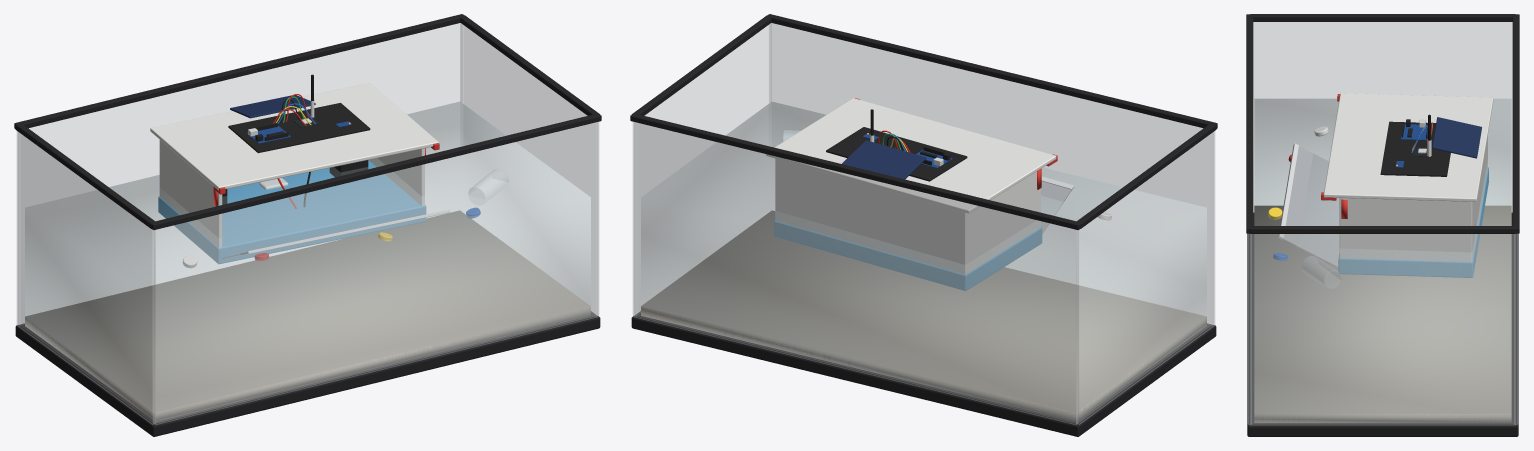
3 views of the same model, side by side, from view 1: azimuth 30°, elevation 25°; view 2: azimuth 150°, elevation 25°; view 3: azimuth 270°, elevation 25° (orthographic). The views are drawn at different scales.
Parts seen in each view (by area): view 1: wb_tank_glass, wb_gravel, wb_water, wb_tank_glass.001, wb_tank_glass.002, wb_lid_board, wb_tank_glass.003, wb_hull_blue, wb_tank_base, wb_tank_rim, wb_tank_rim.001, wb_side (+7 smaller); view 2: wb_tank_glass.001, wb_gravel, wb_tank_glass, wb_water, wb_tank_glass.002, wb_tank_glass.003, wb_back, wb_lid_board, wb_tank_base, wb_hull_blue, wb_tank_rim.001, wb_tank_rim (+6 smaller); view 3: wb_tank_glass.003, wb_gravel, wb_tank_glass.002, wb_lid_board, wb_water, wb_tank_base, wb_side.001, wb_flap_mesh, wb_hull_blue, wb_plate, wb_tank_rim.003, wb_tank_rim.002 (+9 smaller).
Part boxes in pixels (bbox=[...]): wb_tank_glass: bbox=[153, 122, 597, 424]; wb_gravel: bbox=[25, 210, 590, 421]; wb_water: bbox=[25, 102, 590, 316]; wb_tank_glass.001: bbox=[18, 23, 462, 324]; wb_tank_glass.002: bbox=[17, 131, 155, 424]; wb_lid_board: bbox=[150, 83, 438, 190]; wb_tank_glass.003: bbox=[460, 23, 598, 315]; wb_hull_blue: bbox=[158, 160, 425, 263]; wb_tank_base: bbox=[15, 311, 600, 436]; wb_tank_rim: bbox=[151, 114, 601, 229]; wb_tank_rim.001: bbox=[14, 14, 463, 128]; wb_side: bbox=[160, 140, 222, 247]; wb_tank_glass.001: bbox=[634, 122, 1078, 424]; wb_gravel: bbox=[641, 210, 1206, 421]; wb_tank_glass: bbox=[769, 23, 1213, 324]; wb_water: bbox=[641, 102, 1206, 316]; wb_tank_glass.002: bbox=[1076, 131, 1214, 424]; wb_tank_glass.003: bbox=[633, 23, 771, 315]; wb_back: bbox=[775, 159, 966, 274]; wb_lid_board: bbox=[766, 98, 1056, 213]; wb_tank_base: bbox=[631, 311, 1216, 436]; wb_hull_blue: bbox=[774, 220, 1041, 290]; wb_tank_rim.001: bbox=[630, 114, 1080, 229]; wb_tank_rim: bbox=[768, 14, 1217, 128]; wb_tank_glass.003: bbox=[1250, 234, 1515, 425]; wb_gravel: bbox=[1254, 205, 1511, 422]; wb_tank_glass.002: bbox=[1253, 22, 1512, 212]; wb_lid_board: bbox=[1323, 93, 1493, 201]; wb_water: bbox=[1254, 99, 1511, 225]; wb_tank_base: bbox=[1247, 212, 1518, 436]; wb_side.001: bbox=[1339, 198, 1469, 261]; wb_flap_mesh: bbox=[1282, 146, 1339, 267]; wb_hull_blue: bbox=[1338, 167, 1488, 277]; wb_plate: bbox=[1380, 121, 1450, 176]; wb_tank_rim.003: bbox=[1250, 226, 1515, 233]; wb_tank_rim.002: bbox=[1250, 14, 1515, 21].
Bounding box in the file's own units: 0.994 × 0.493 × 0.534.
